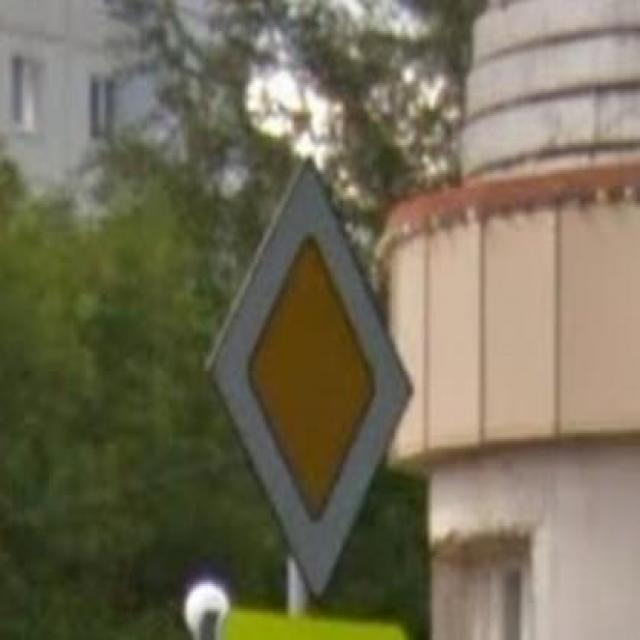Priority road: (200, 153, 417, 603)
